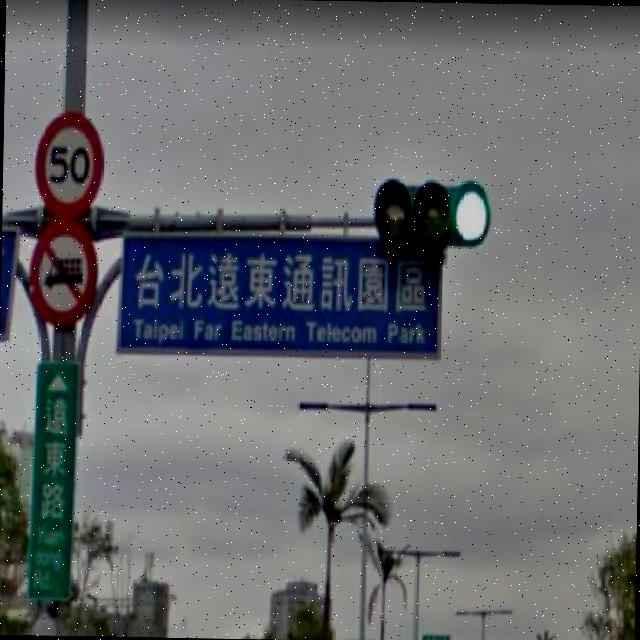Ograniczenie predkosci do 50: (34, 102, 108, 226)
